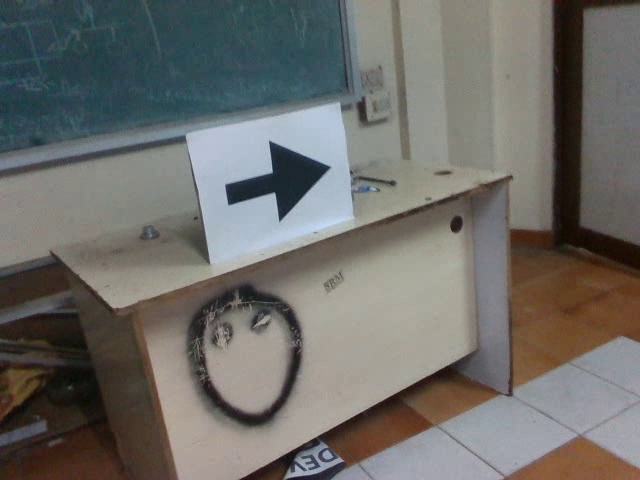Right: (220, 137, 332, 223)
